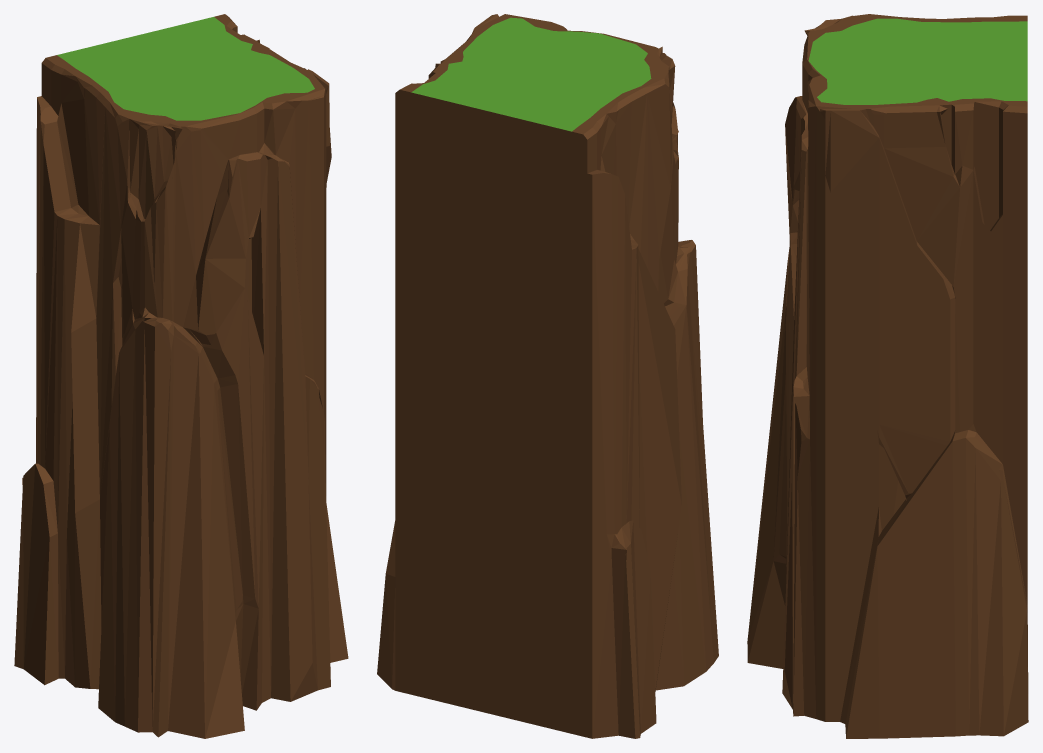
Rendered from Cliff x3 Edge 1.fbx.
3 views of the same model, side by side, from view 1: azimuth 30°, elevation 25°; view 2: azimuth 150°, elevation 25°; view 3: azimuth 270°, elevation 25° (orthographic). The views are drawn at different scales.
Visible parts, largest first — view 1: Cliff x3 Edge 1; view 2: Cliff x3 Edge 1; view 3: Cliff x3 Edge 1.
Boxes of the visible parts, x1,y1,x2,y2 form: Cliff x3 Edge 1: (14,14,348,738); Cliff x3 Edge 1: (377,14,718,738); Cliff x3 Edge 1: (747,14,1028,738).
Bounding box in the file's own units: 2.76 × 6.04 × 2.49.
